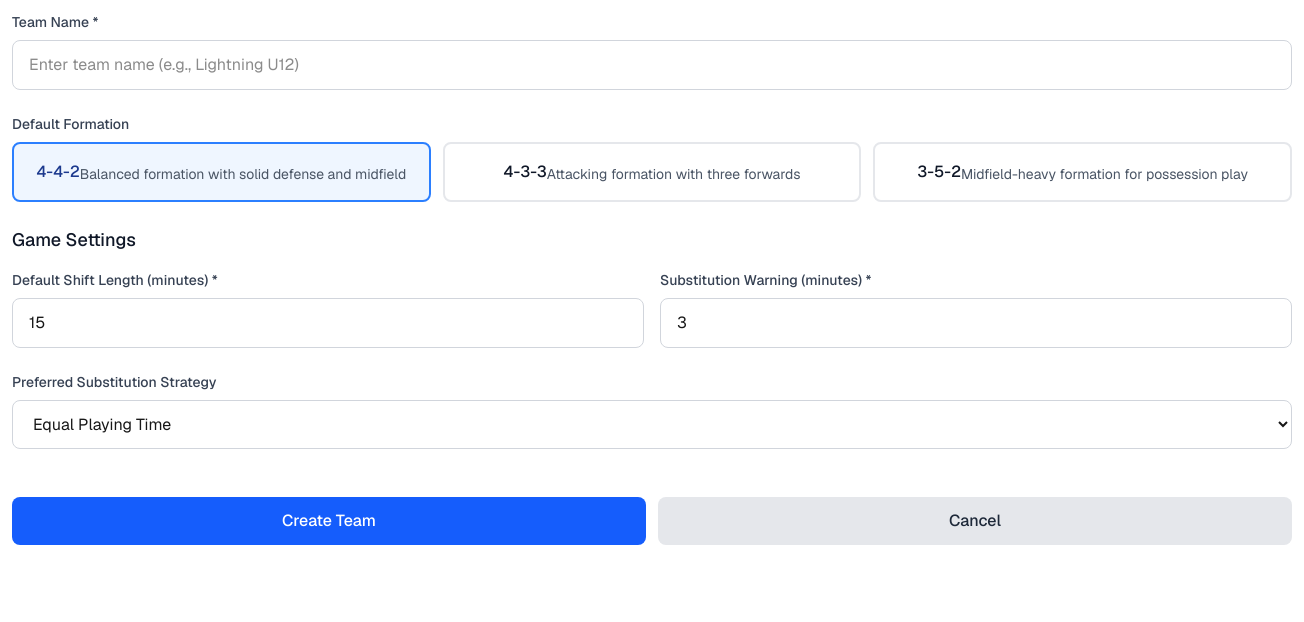
Test: TeamSetup Component › TeamForm Component › should validate warning time range
Replace the text in the number field labelled "Substitution Warning (minutes) *" with "15": (976, 323) [660,298,1292,348]
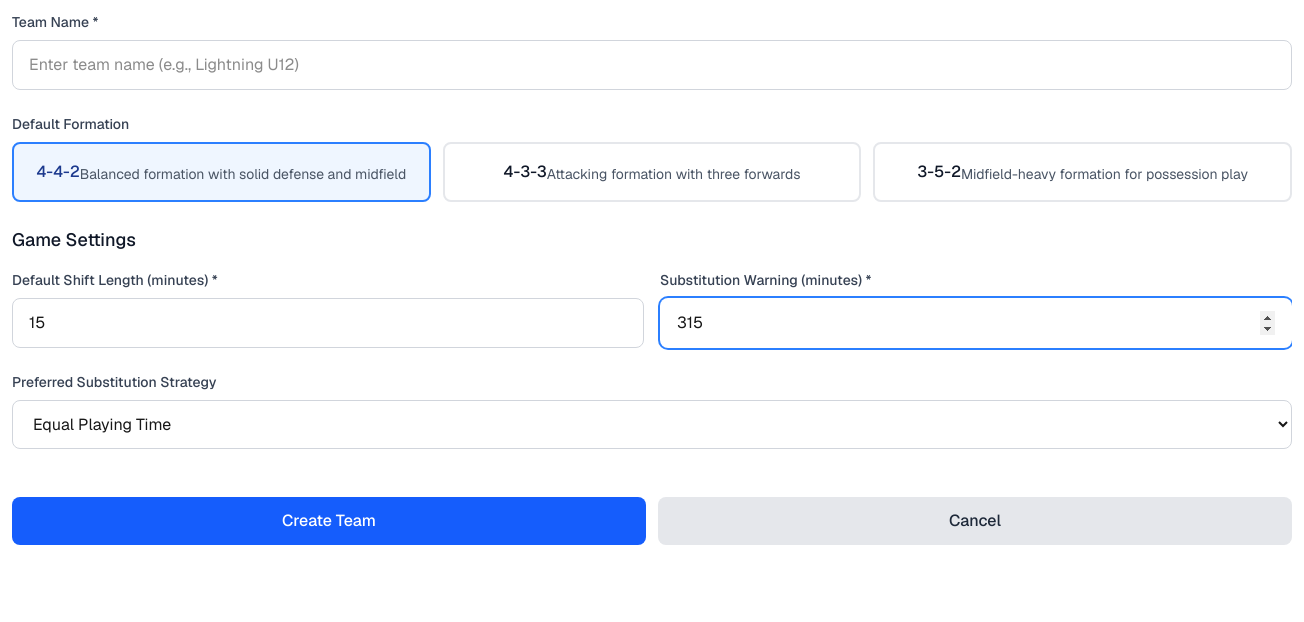
Click the button "Create Team": (329, 521) [12,497,646,545]
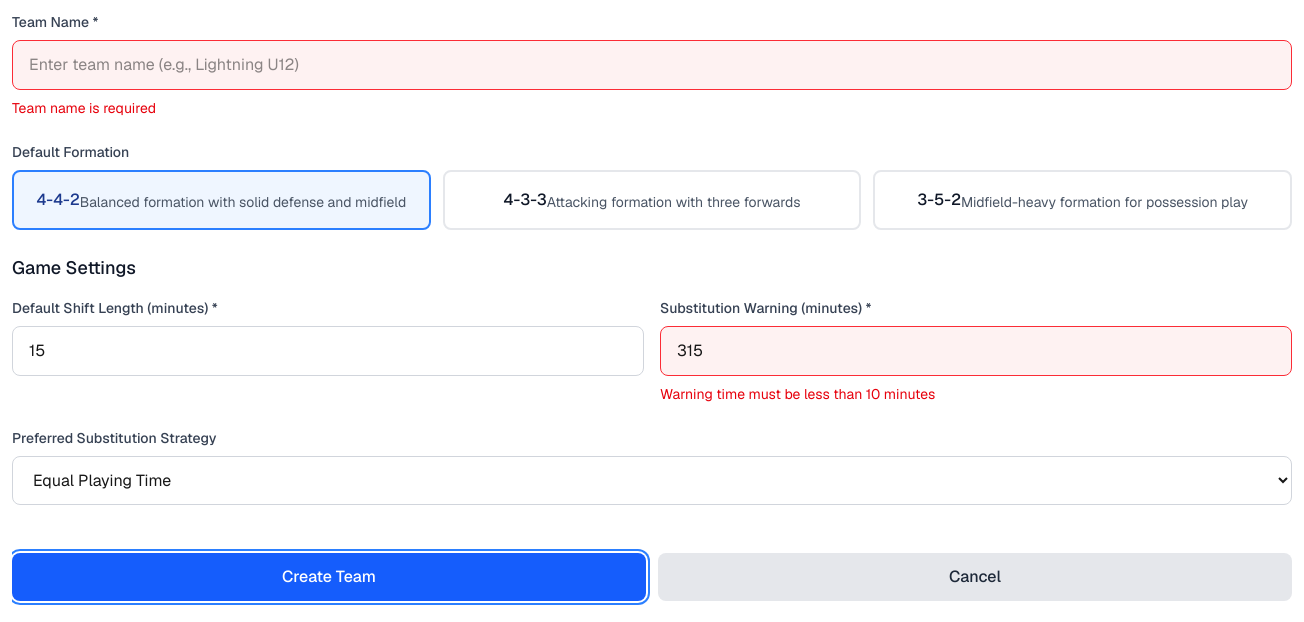
Expected: the text "Warning time must be less than 10 minutes" is shown, [660,385,935,403]
